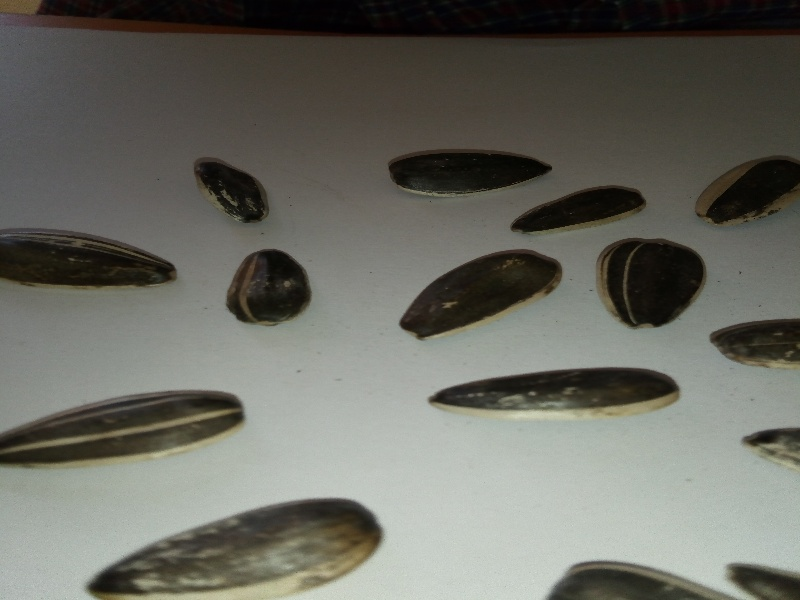girasol: (425, 362, 687, 438), (393, 242, 572, 345), (592, 232, 713, 338), (214, 242, 322, 338), (379, 140, 554, 199), (184, 147, 275, 228)
